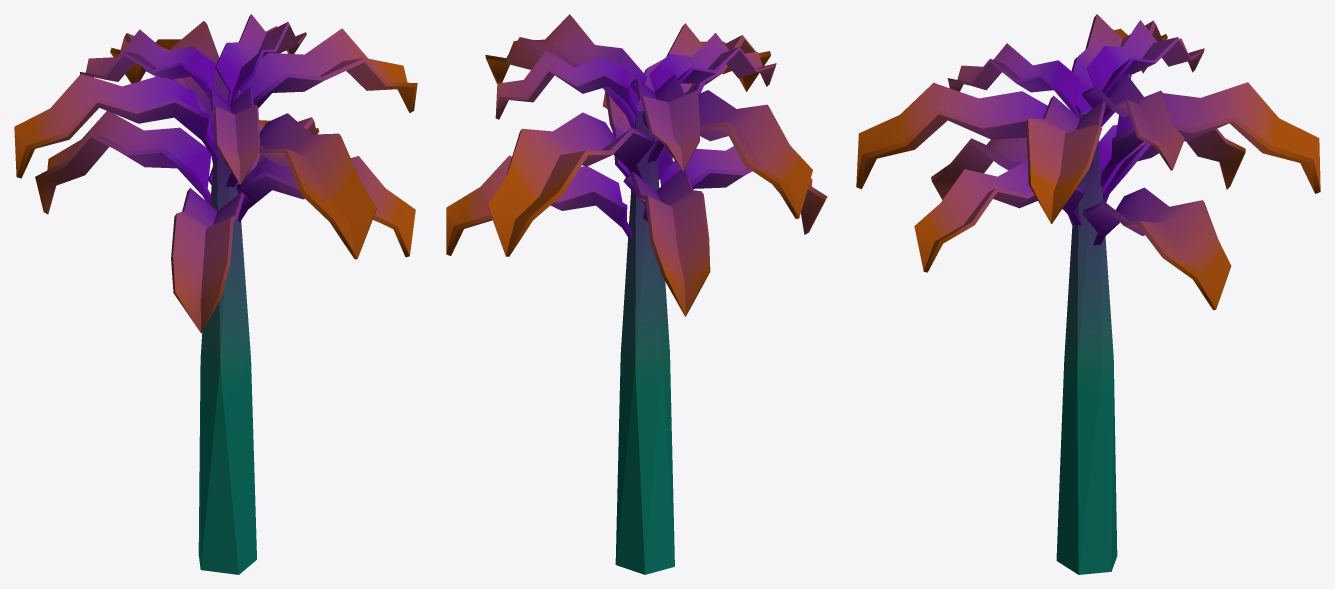
Rendered from palm_ver4.fbx.
3 renders of one model, left to right at view 1: azimuth 30°, elevation 25°; view 2: azimuth 150°, elevation 25°; view 3: azimuth 270°, elevation 25°, orthographic.
Parts seen in each view (by area): view 1: palm_ver4; view 2: palm_ver4; view 3: palm_ver4.
Boxes of the visible parts, x1,y1,x2,y2 form: palm_ver4: (14, 14, 417, 574); palm_ver4: (446, 14, 827, 574); palm_ver4: (856, 14, 1320, 574).
Size of the model in its own units: 223 by 308 by 256.
